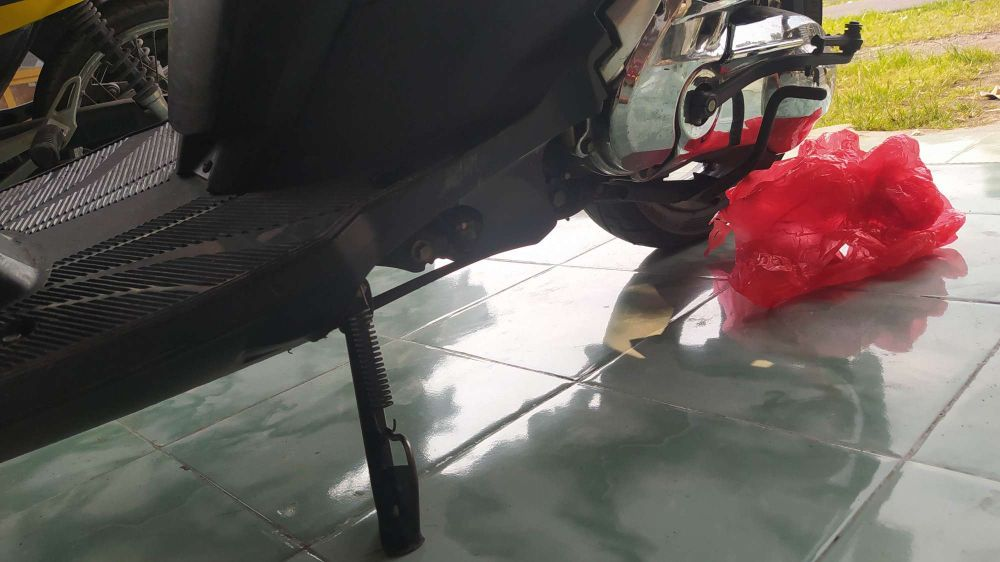plastik: (718, 119, 953, 300)
